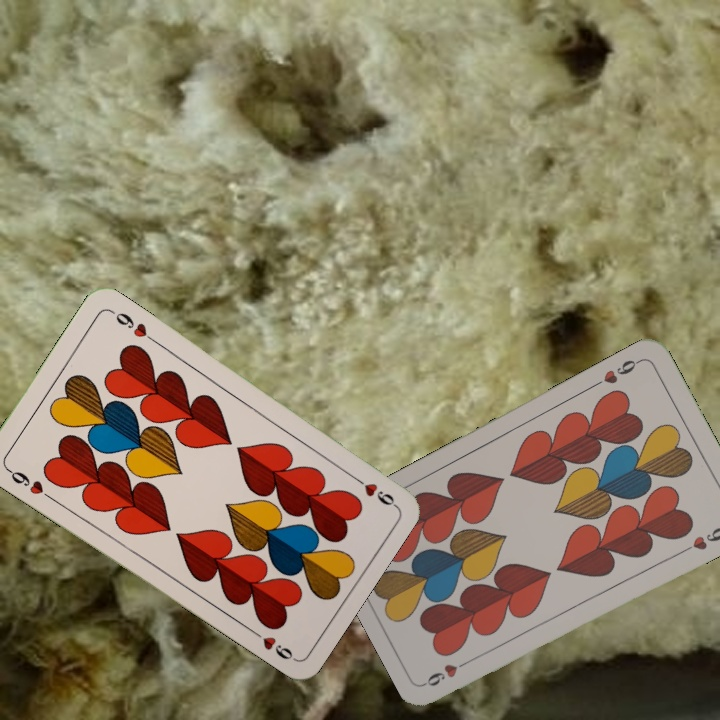H9: (2, 464, 55, 502), (346, 470, 397, 509), (421, 654, 476, 689), (590, 355, 645, 389)
